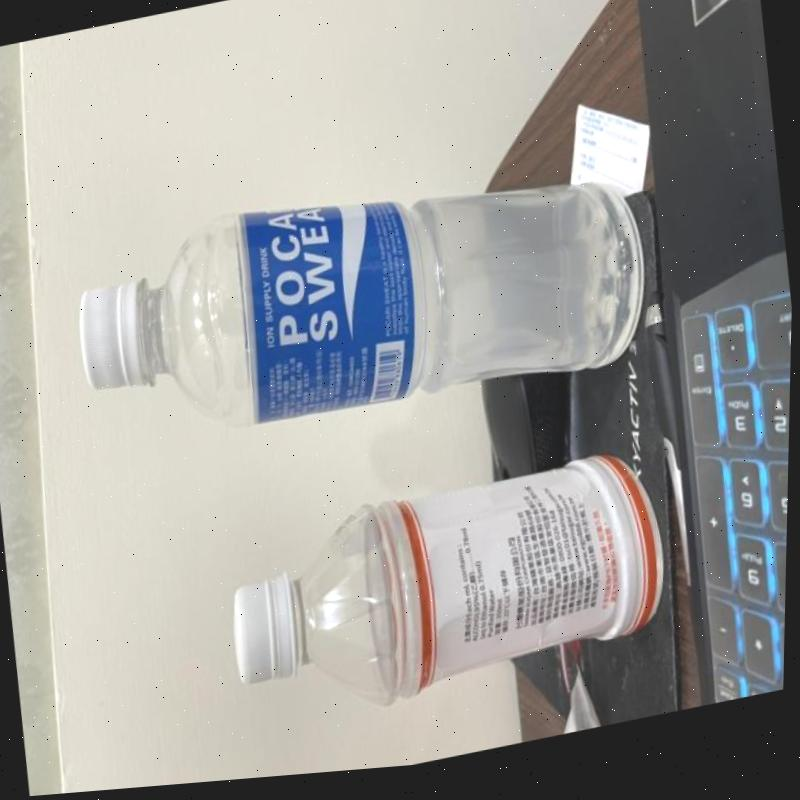botella: (63, 139, 651, 474), (219, 439, 683, 739)
